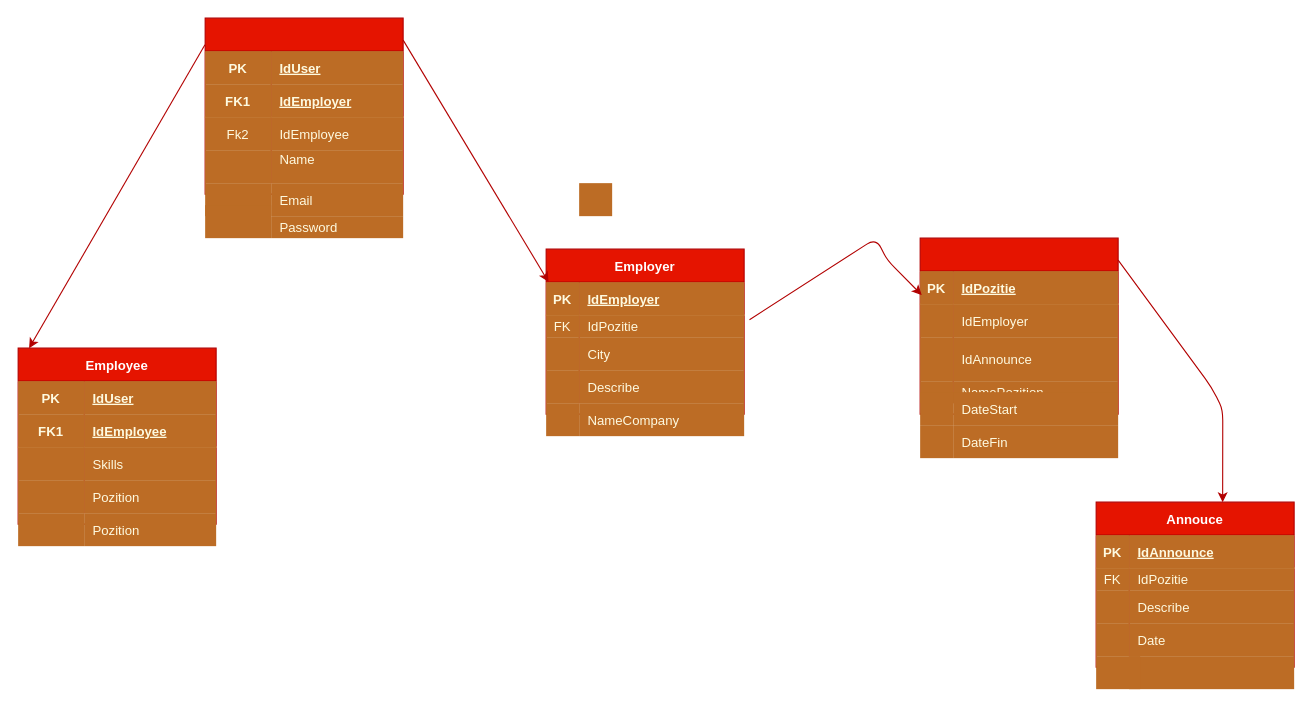
This 1312x707 diagram has some shape labels left out. The shapes that lost their labels are listed below. From the top down, each one's box as (x1, y1, x2, y2) in pixels, then its label:
(204, 17, 403, 194): Users
(919, 237, 1118, 414): Position
